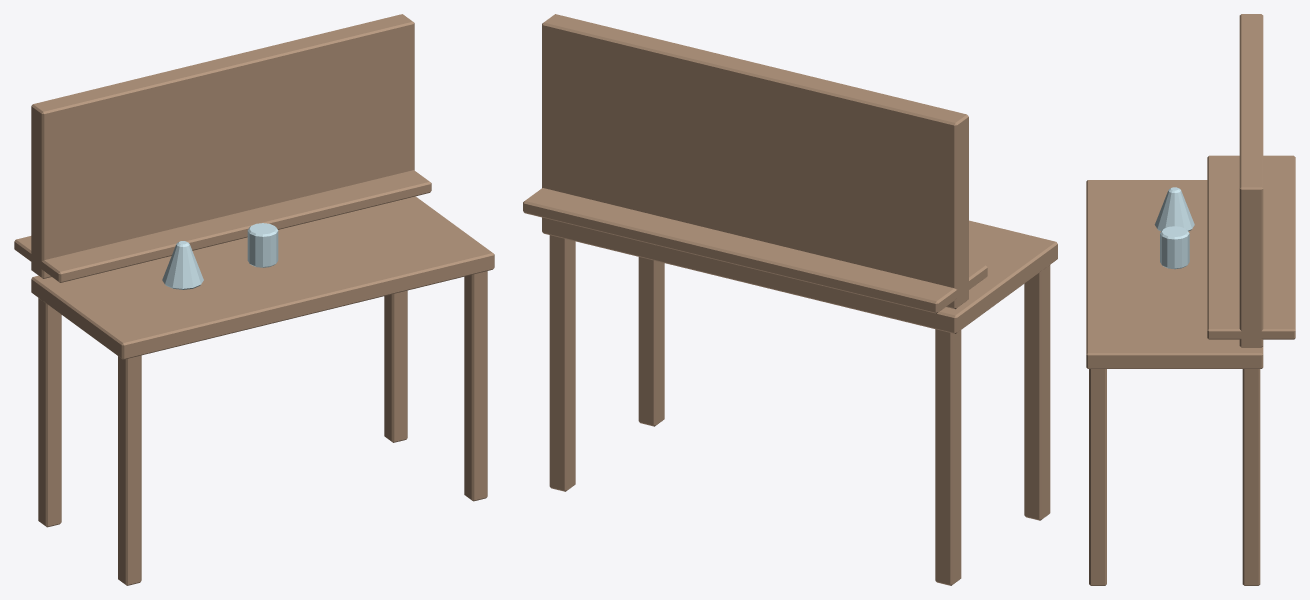
File: SM_Lab_Table.fbx
3 views of the same model, side by side, from view 1: azimuth 30°, elevation 25°; view 2: azimuth 150°, elevation 25°; view 3: azimuth 270°, elevation 25° (orthographic). The views are drawn at different scales.
Parts seen in each view (by area): view 1: Lab_Table; view 2: Lab_Table; view 3: Lab_Table.
Boxes of the visible parts, x1=… form: Lab_Table: x1=14, y1=14, x2=494, y2=585; Lab_Table: x1=523, y1=14, x2=1057, y2=585; Lab_Table: x1=1086, y1=14, x2=1295, y2=585.
Size of the model in its own units: 140 by 150 by 71.
